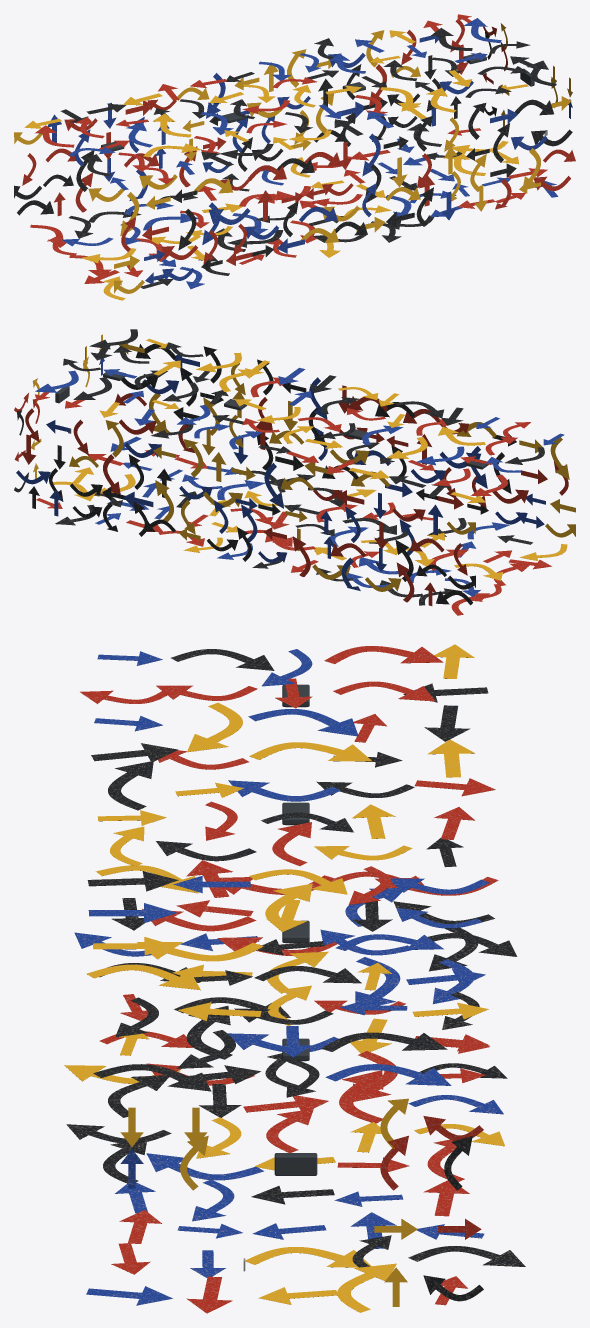
Rendered from SILENT_Room_03_B_Objects.fbx.
The picture shows the model from 3 angles, top to bottom: view 1: azimuth 30°, elevation 25°; view 2: azimuth 150°, elevation 25°; view 3: azimuth 270°, elevation 25°; orthographic projection. The views are drawn at different scales.
Visible parts, largest first — view 1: Room_03_B_Patterns; view 2: Room_03_B_Patterns; view 3: Room_03_B_Patterns, PZ_R3_B_RewardDisplay.
Boxes of the visible parts, <box> form: Room_03_B_Patterns: <box>14,14,575,300</box>; Room_03_B_Patterns: <box>14,329,575,615</box>; Room_03_B_Patterns: <box>64,644,525,1313</box>; PZ_R3_B_RewardDisplay: <box>274,1153,317,1175</box>.
Size of the model in its own units: 18.02 by 3.98 by 7.61.
Materials: 7 (4 with a texture image).
